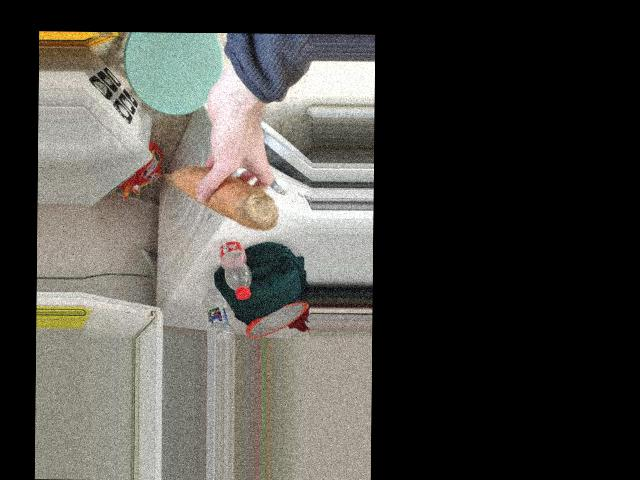sweet_potato: (173, 157, 272, 234)
